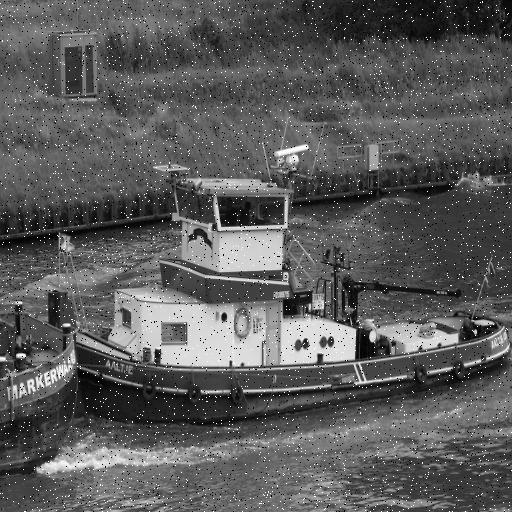tugboat: (47, 116, 512, 437)
